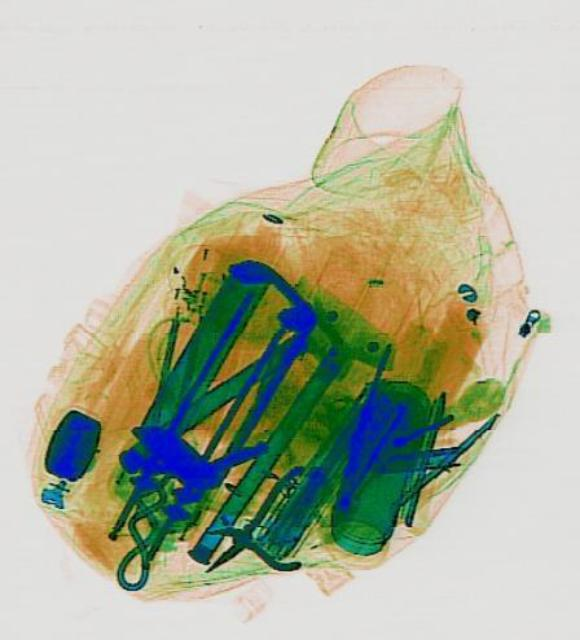Pliers: (181, 463, 331, 597)
